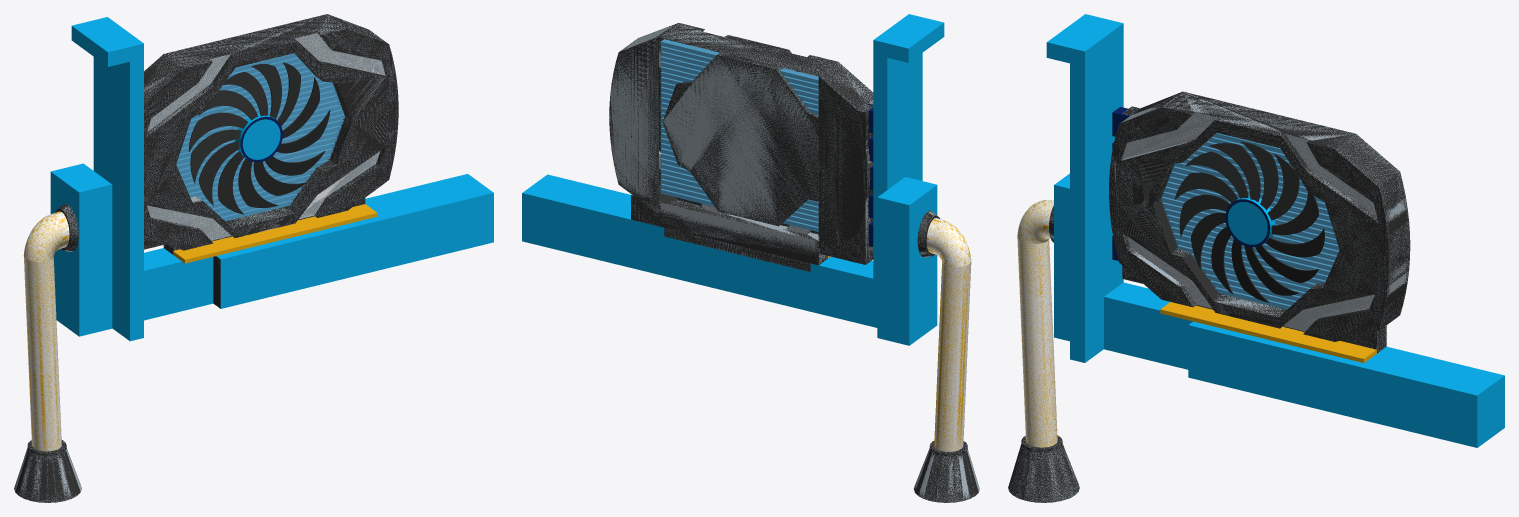
File: gpu_1_fan.fbx
The picture shows the model from 3 angles, left to right: view 1: azimuth 30°, elevation 25°; view 2: azimuth 150°, elevation 25°; view 3: azimuth 330°, elevation 25°; orthographic projection. The views are drawn at different scales.
Visible parts, largest first — view 1: Group2, Group1, Group45, Group44, Group3, Group26, Group23, Group35, Group29, Group8, Group11, Group17 (+6 smaller); view 2: Group2, Group1, Group45, Group43; view 3: Group2, Group1, Group45, Group44, Group3, Group11, Group20, Group17, Group41, Group35, Group14, Group23 (+6 smaller).
Part boxes in pixels (x1,y1,x2,y2): Group2: [50, 14, 493, 341]; Group1: [14, 204, 81, 502]; Group45: [176, 53, 345, 221]; Group44: [173, 204, 377, 263]; Group3: [234, 113, 282, 162]; Group26: [199, 141, 239, 205]; Group23: [191, 130, 241, 183]; Group35: [189, 112, 248, 151]; Group29: [218, 151, 244, 214]; Group8: [238, 159, 277, 207]; Group11: [223, 72, 267, 116]; Group17: [199, 90, 258, 119]; Group2: [522, 14, 944, 345]; Group1: [914, 211, 979, 502]; Group45: [660, 39, 818, 231]; Group43: [867, 103, 873, 246]; Group2: [1046, 14, 1504, 447]; Group1: [1008, 199, 1079, 502]; Group45: [1160, 133, 1339, 309]; Group44: [1160, 302, 1376, 362]; Group3: [1225, 195, 1276, 247]; Group11: [1209, 143, 1260, 201]; Group20: [1240, 142, 1278, 209]; Group17: [1185, 152, 1247, 198]; Group41: [1268, 154, 1299, 220]; Group35: [1174, 172, 1237, 202]; Group14: [1271, 192, 1318, 234]; Group23: [1179, 195, 1229, 235].
Size of the model in its own units: 384 by 361 by 67.8.
